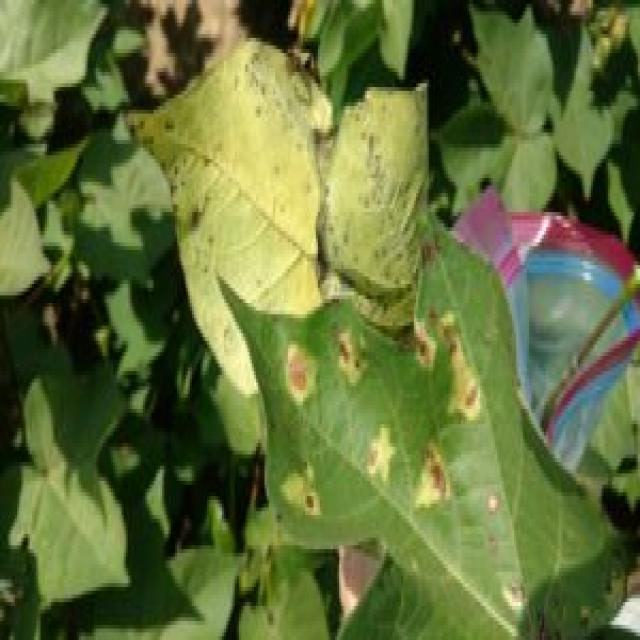Bacterial Blight: (262, 272, 490, 550)
